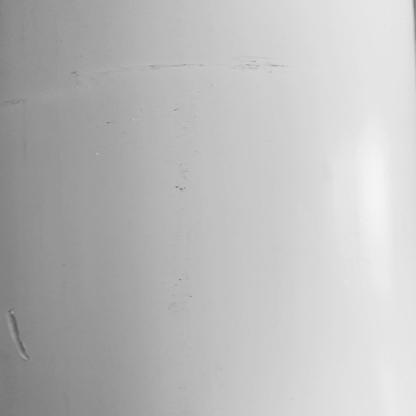sunshang: (6, 309, 29, 361)
